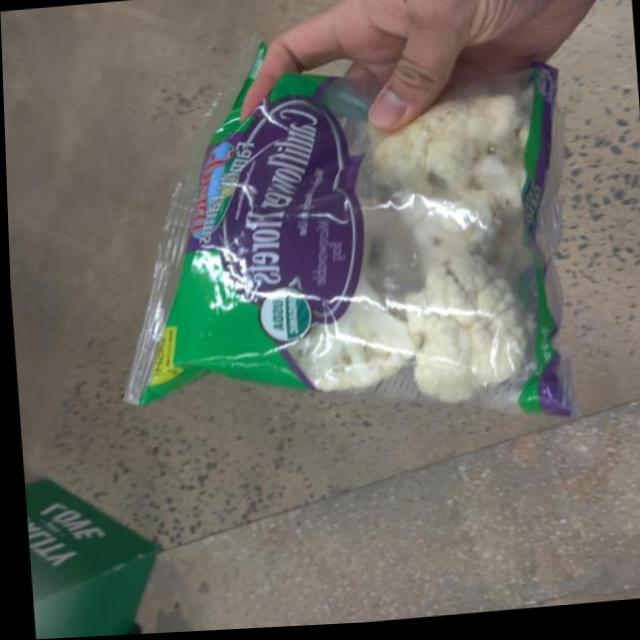Juice: (90, 18, 584, 491)
